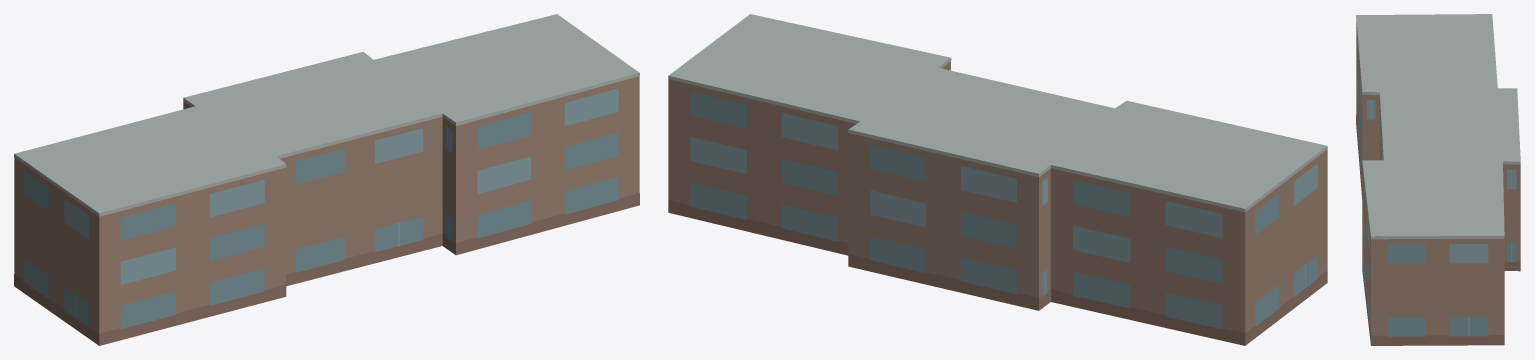
File: survey-upis-32760814.glb
3 views of the same model, side by side, from view 1: azimuth 30°, elevation 25°; view 2: azimuth 150°, elevation 25°; view 3: azimuth 270°, elevation 25° (orthographic). The views are drawn at different scales.
Visible parts, largest first — view 1: survey-upis-32760814.tmp; view 2: survey-upis-32760814.tmp; view 3: survey-upis-32760814.tmp.
Part boxes in pixels (bbox=[...]): survey-upis-32760814.tmp: bbox=[14, 14, 639, 345]; survey-upis-32760814.tmp: bbox=[668, 14, 1327, 345]; survey-upis-32760814.tmp: bbox=[1356, 14, 1520, 345].
Bounding box in the file's own units: 42.3 × 9.7 × 13.23.
